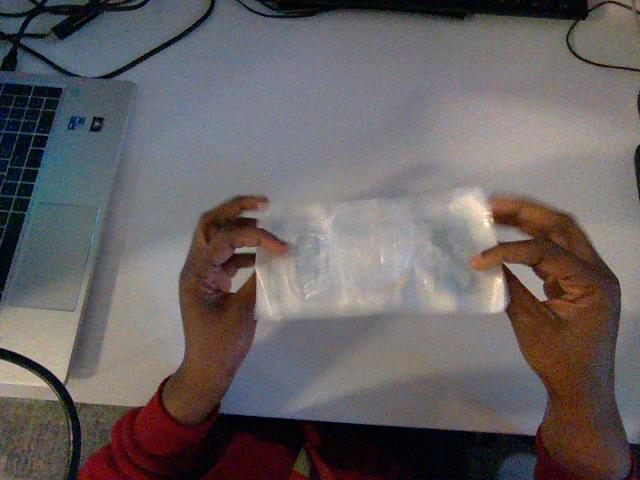gallipot: (256, 188, 505, 319)
